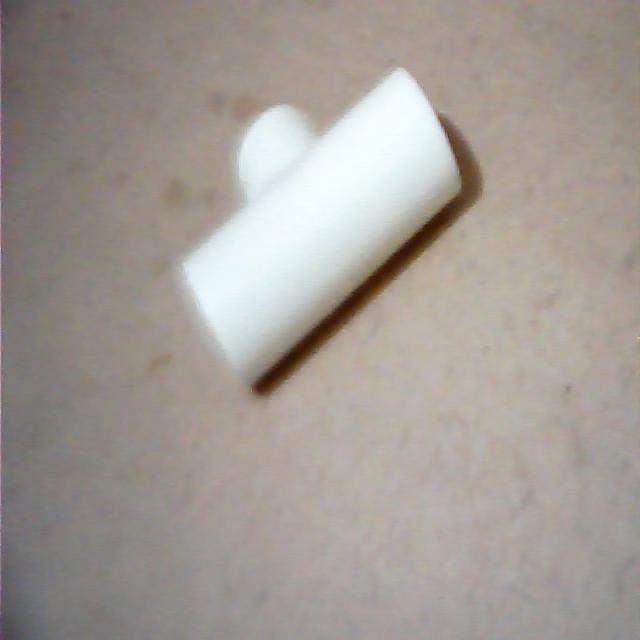T Joint: (175, 68, 477, 397)
